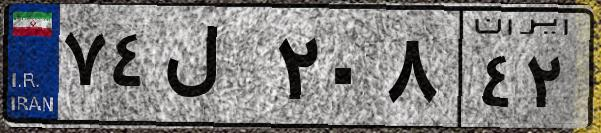0: (330, 28, 385, 110)
2: (270, 28, 330, 110), (525, 38, 570, 115)
4: (475, 38, 525, 113), (110, 28, 158, 98)
7: (57, 26, 110, 100)
8: (385, 28, 445, 110)
ل: (158, 20, 270, 120)
